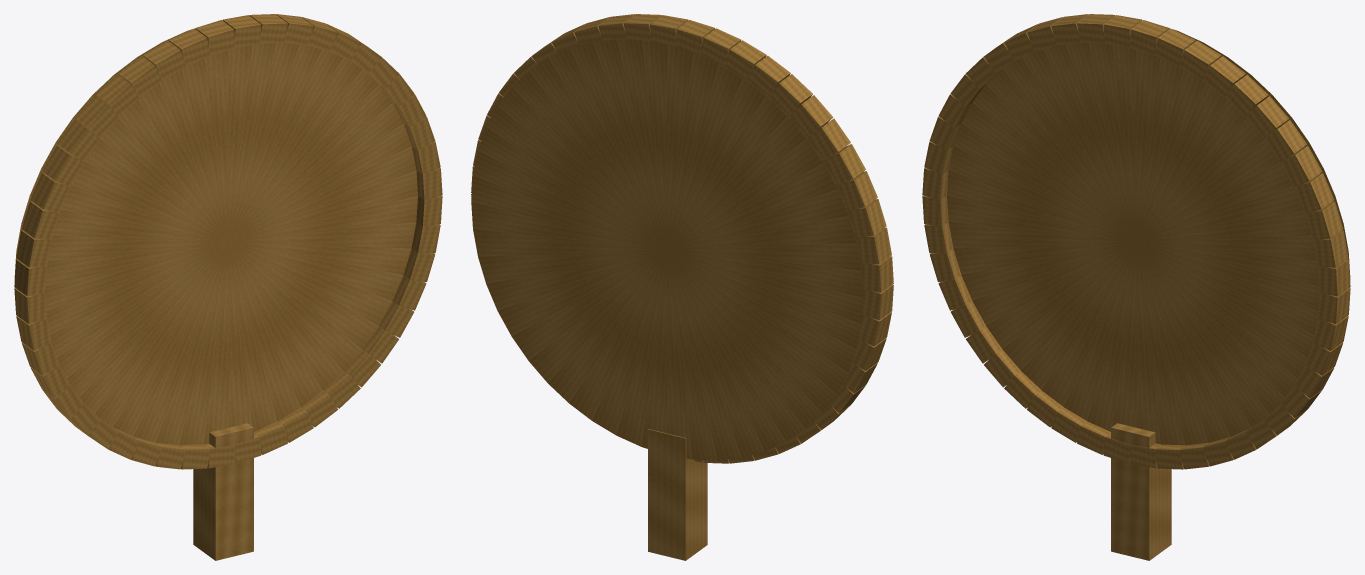
File: moon_mirror.glb
The picture shows the model from 3 angles, left to right: view 1: azimuth 30°, elevation 25°; view 2: azimuth 150°, elevation 25°; view 3: azimuth 330°, elevation 25°; orthographic projection.
Parts seen in each view (by area): view 1: moon_mirror0; view 2: moon_mirror0; view 3: moon_mirror0.
Boxes of the visible parts, <box> form: moon_mirror0: <box>14,14,442,560</box>; moon_mirror0: <box>471,14,893,560</box>; moon_mirror0: <box>922,14,1350,560</box>.
Size of the model in its own units: 0.5959 by 0.723 by 0.0555.
1 material, 1 textured.
